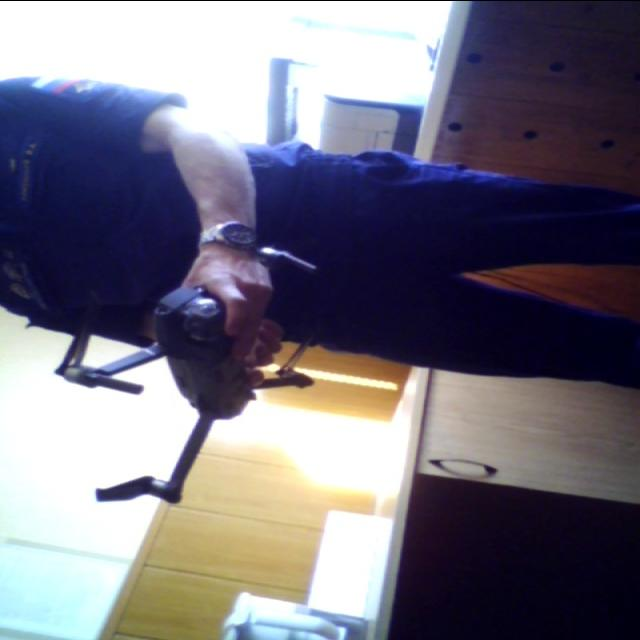drone: (56, 232, 334, 514)
